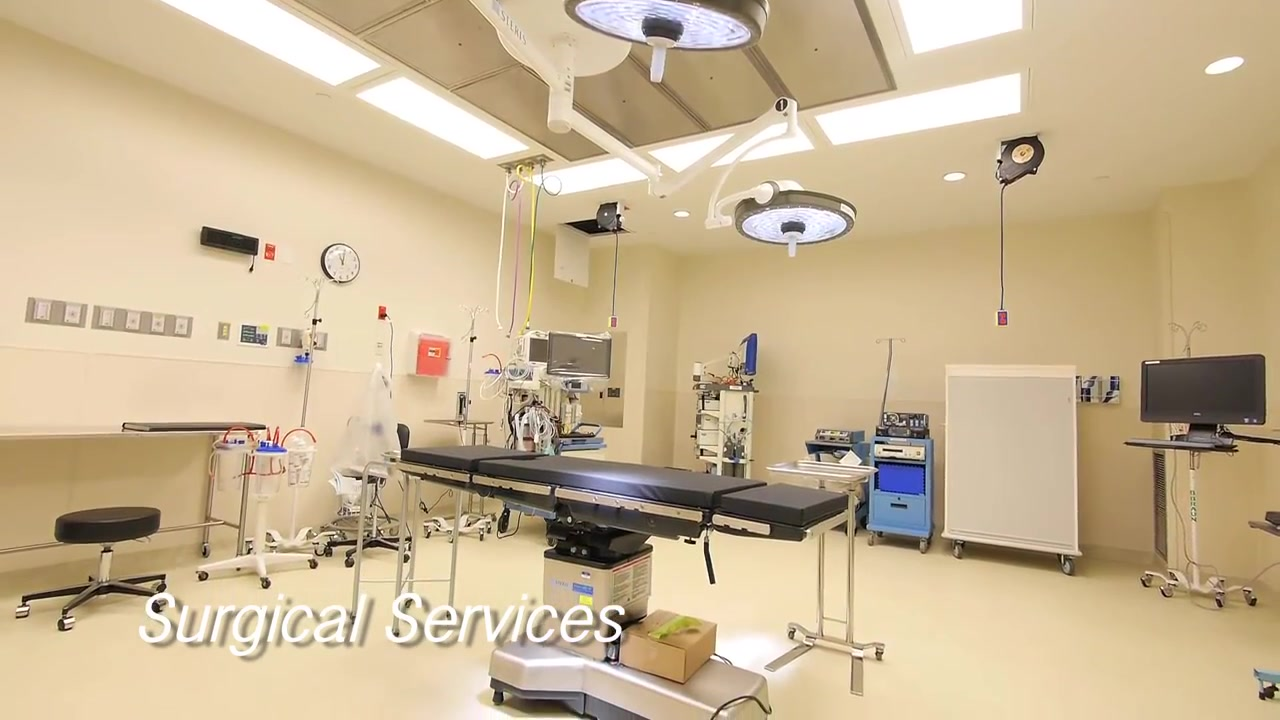bedside_monitor: (549, 330, 614, 378), (528, 335, 549, 364)
breathing_tube: (513, 411, 554, 453)
chair: (1, 504, 180, 632)
computer: (1132, 351, 1270, 428)
electrosurgical_unit: (815, 429, 867, 443)
iv_pole: (299, 273, 340, 428), (458, 303, 493, 429), (873, 337, 907, 426), (1165, 319, 1208, 358)
medical_waste_container: (403, 325, 455, 379)
operating_bed: (392, 420, 856, 697)
surgical_light: (564, 1, 771, 50), (734, 180, 858, 258)
utility_cart: (765, 458, 885, 697), (347, 451, 468, 628)
